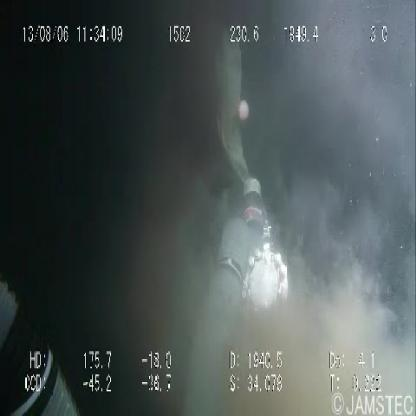Rov: (174, 169, 296, 416), (1, 251, 90, 416)
Rác: (204, 28, 254, 177)
